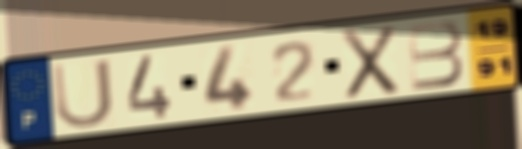2: (269, 39, 317, 105)
4: (201, 42, 257, 113), (126, 52, 174, 121)
B: (405, 18, 468, 93)
U: (48, 56, 117, 132)
X: (339, 23, 401, 102)
